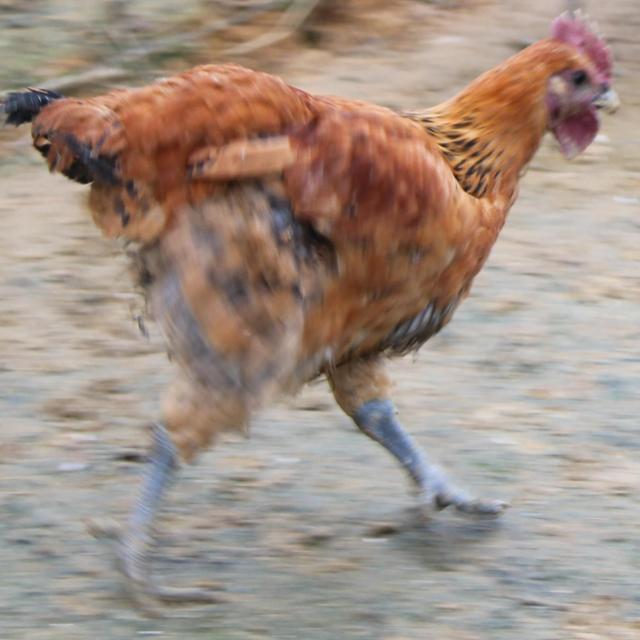hen: (0, 15, 612, 593)
